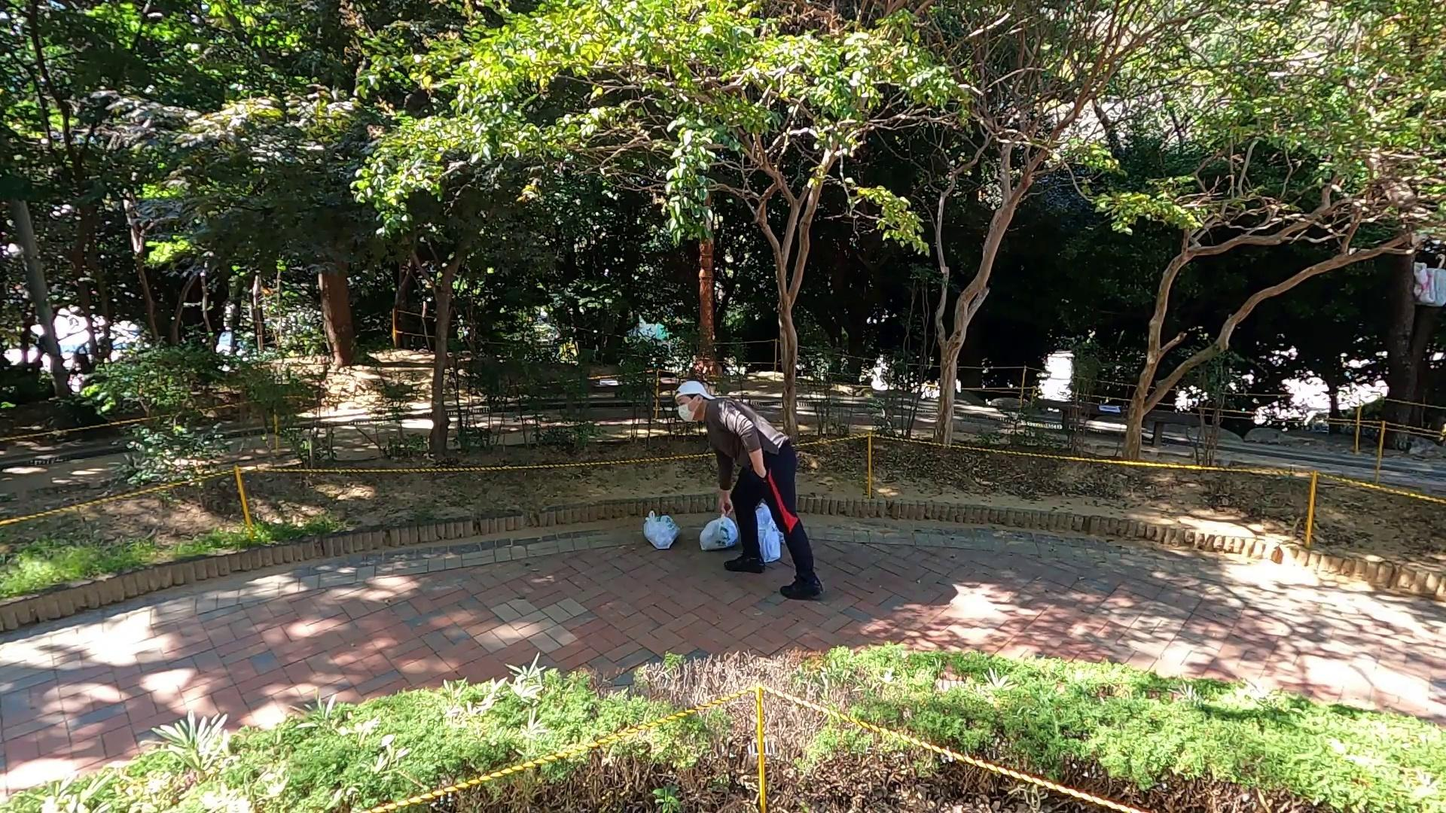person: (675, 379, 826, 603)
trash: (754, 503, 787, 564), (641, 511, 681, 550), (698, 514, 739, 551), (752, 525, 781, 564)
